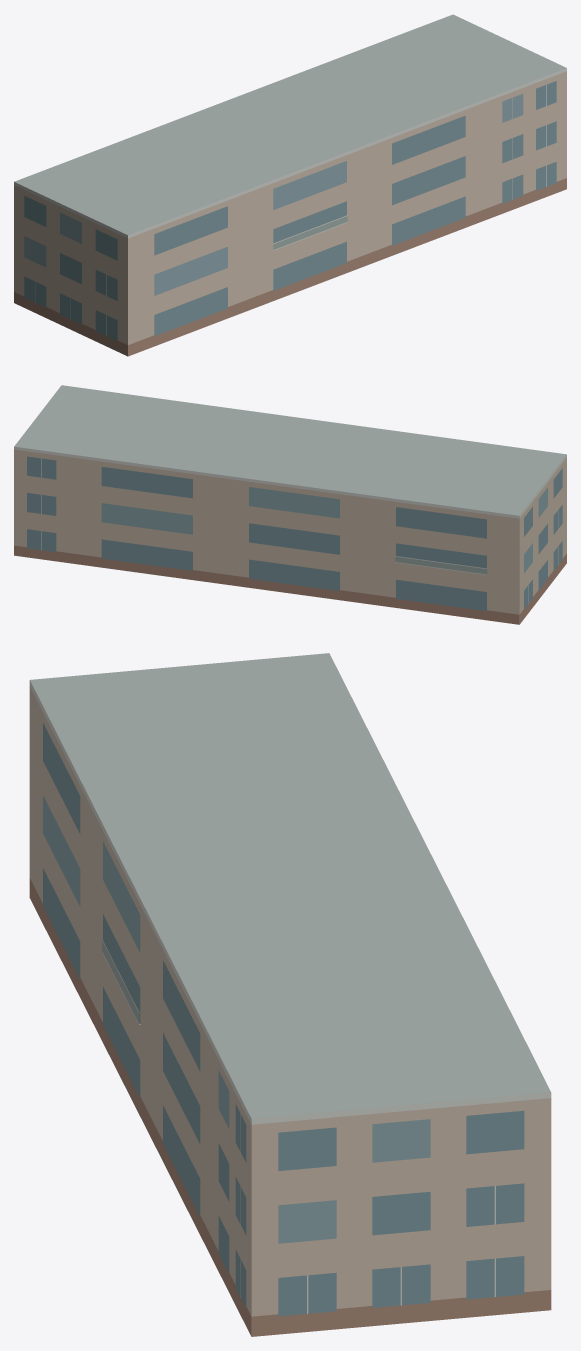
Rendered from survey-upis-32696555.glb.
The picture shows the model from 3 angles, top to bottom: view 1: azimuth 30°, elevation 25°; view 2: azimuth 150°, elevation 25°; view 3: azimuth 270°, elevation 25°; orthographic projection. The views are drawn at different scales.
Parts seen in each view (by area): view 1: survey-upis-32696555.tmp; view 2: survey-upis-32696555.tmp; view 3: survey-upis-32696555.tmp.
Part boxes in pixels (x1=…): survey-upis-32696555.tmp: x1=14, y1=14, x2=566, y2=356; survey-upis-32696555.tmp: x1=14, y1=385, x2=566, y2=624; survey-upis-32696555.tmp: x1=29, y1=653, x2=551, y2=1336.
Size of the model in its own units: 41.96 by 9.15 by 19.85.
